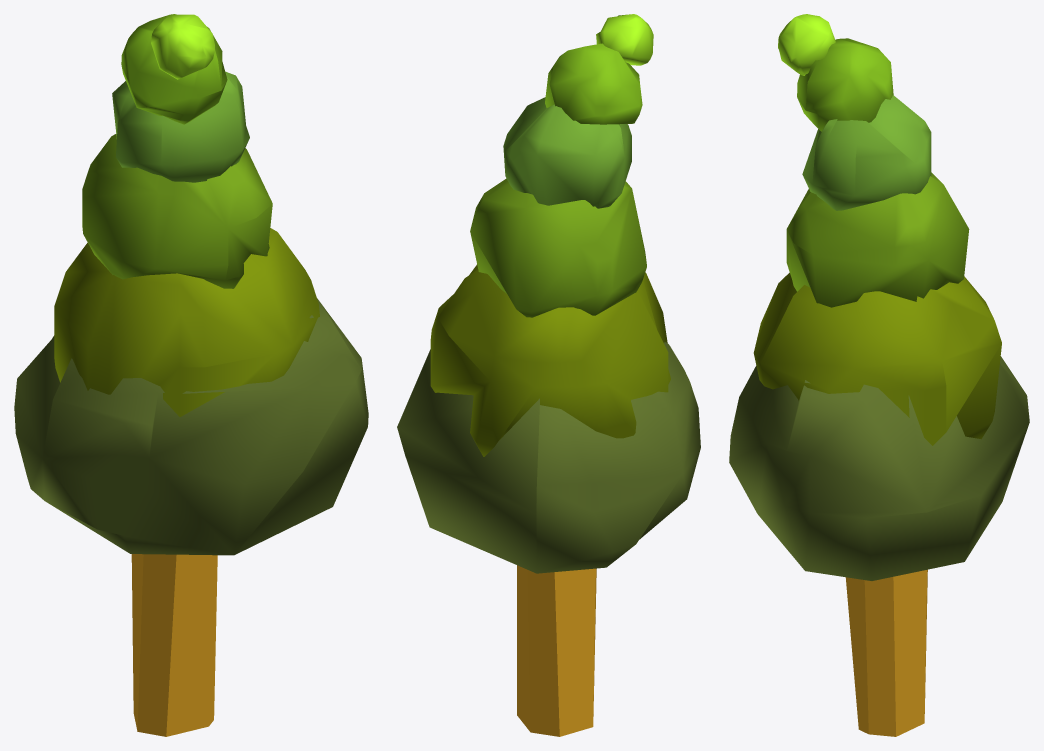
Rendered from tree_2.glb.
The picture shows the model from 3 angles, left to right: view 1: azimuth 30°, elevation 25°; view 2: azimuth 150°, elevation 25°; view 3: azimuth 270°, elevation 25°; orthographic projection. The views are drawn at different scales.
Visible parts, largest first — view 1: Leaves, Trunk; view 2: Leaves, Trunk; view 3: Leaves, Trunk.
Boxes of the visible parts, x1,y1,x2,y2 form: Leaves: (14,14,368,555); Trunk: (131,554,217,736); Leaves: (397,14,700,573); Trunk: (517,565,596,736); Leaves: (729,14,1029,580); Trunk: (845,569,927,736).
Bounding box in the file's own units: 3.16 × 7.46 × 2.96.
